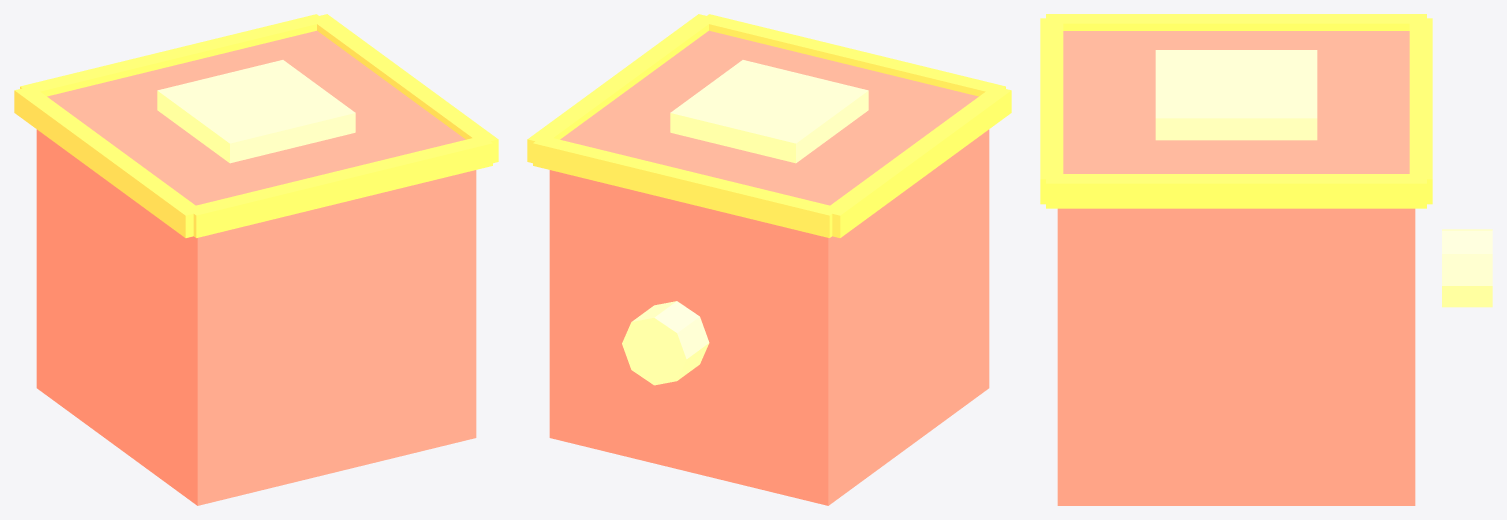
The model's file is interact_enemy_cube.glb.
3 views of the same model, side by side, from view 1: azimuth 30°, elevation 25°; view 2: azimuth 150°, elevation 25°; view 3: azimuth 270°, elevation 25° (orthographic). The views are drawn at different scales.
Parts seen in each view (by area): view 1: interact_enemy_cube; view 2: interact_enemy_cube; view 3: interact_enemy_cube.
Boxes of the visible parts, left/top/right/bottom form: interact_enemy_cube: left=14, top=14, right=498, bottom=505; interact_enemy_cube: left=527, top=14, right=1011, bottom=505; interact_enemy_cube: left=1040, top=14, right=1492, bottom=505.
Size of the model in its own units: 1.74 by 1.65 by 1.96.
